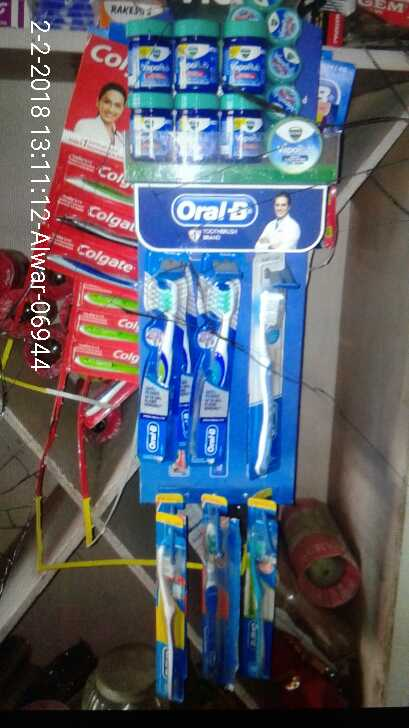pharmacy: (199, 272, 237, 467), (252, 259, 285, 478), (139, 268, 174, 466), (152, 515, 184, 700), (246, 507, 274, 678), (200, 498, 223, 674), (125, 20, 177, 94), (173, 92, 221, 164), (219, 21, 266, 92), (175, 21, 220, 92), (128, 91, 172, 162), (220, 95, 264, 162)
